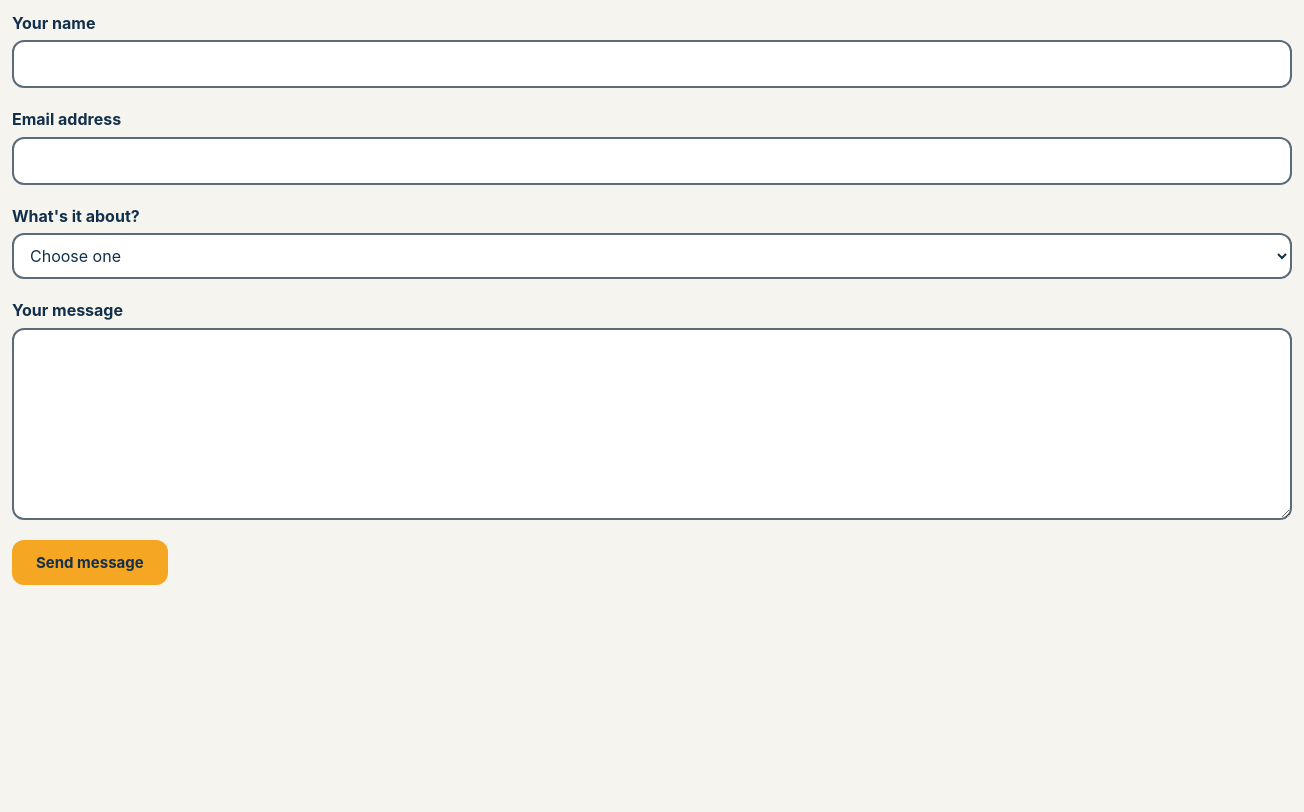
ContactForm › offers the email address when sending fails
This screenshot has width=1304, height=812.
In the field labelled "Your name": x=652, y=64 [12,40,1292,88], type "Dave"
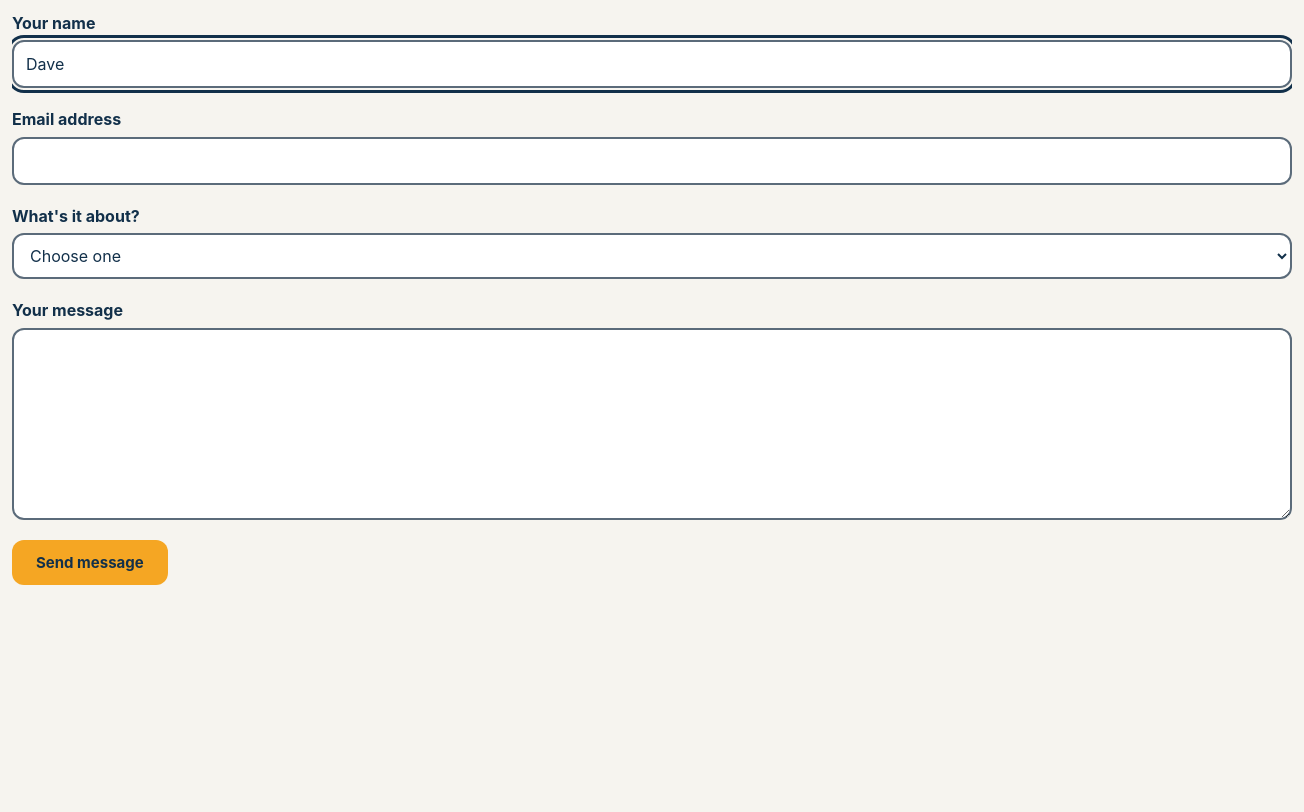
In the field labelled "Email address": x=652, y=161 [12,137,1292,185], type "dave@example.com"
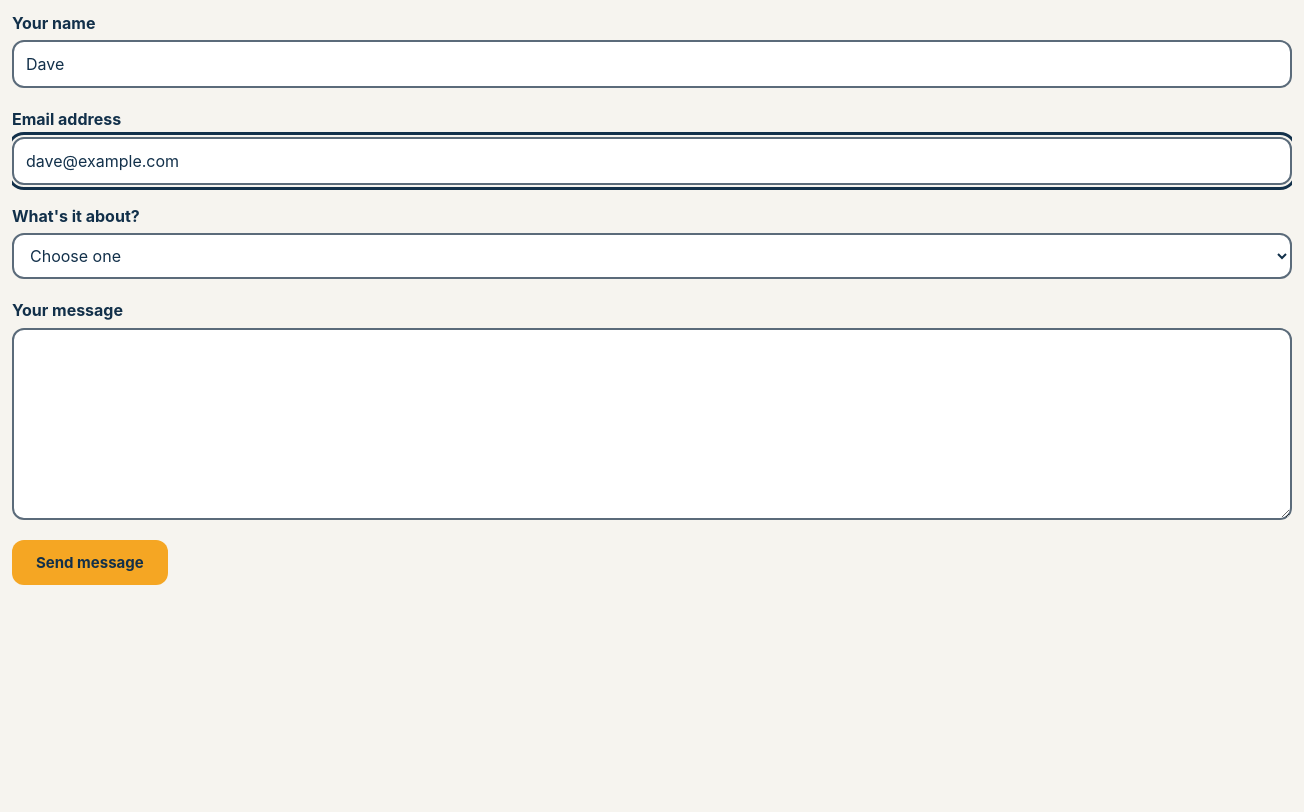
Select "Feedback or an idea" in the dropdown labelled "What's it about?": x=652, y=256 [12,233,1292,279]
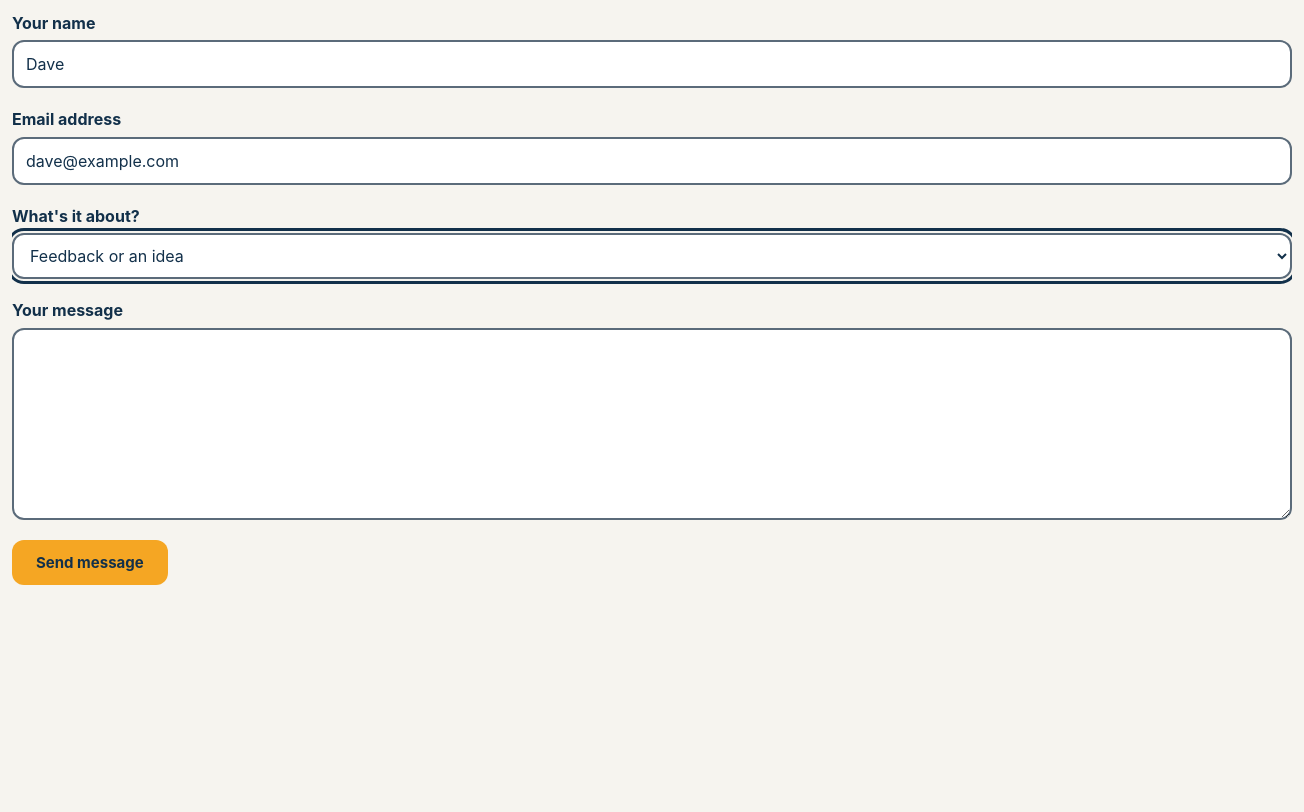
In the text box labelled "Your message": x=652, y=424 [12,328,1292,520], type "Could it cover Dartford?"
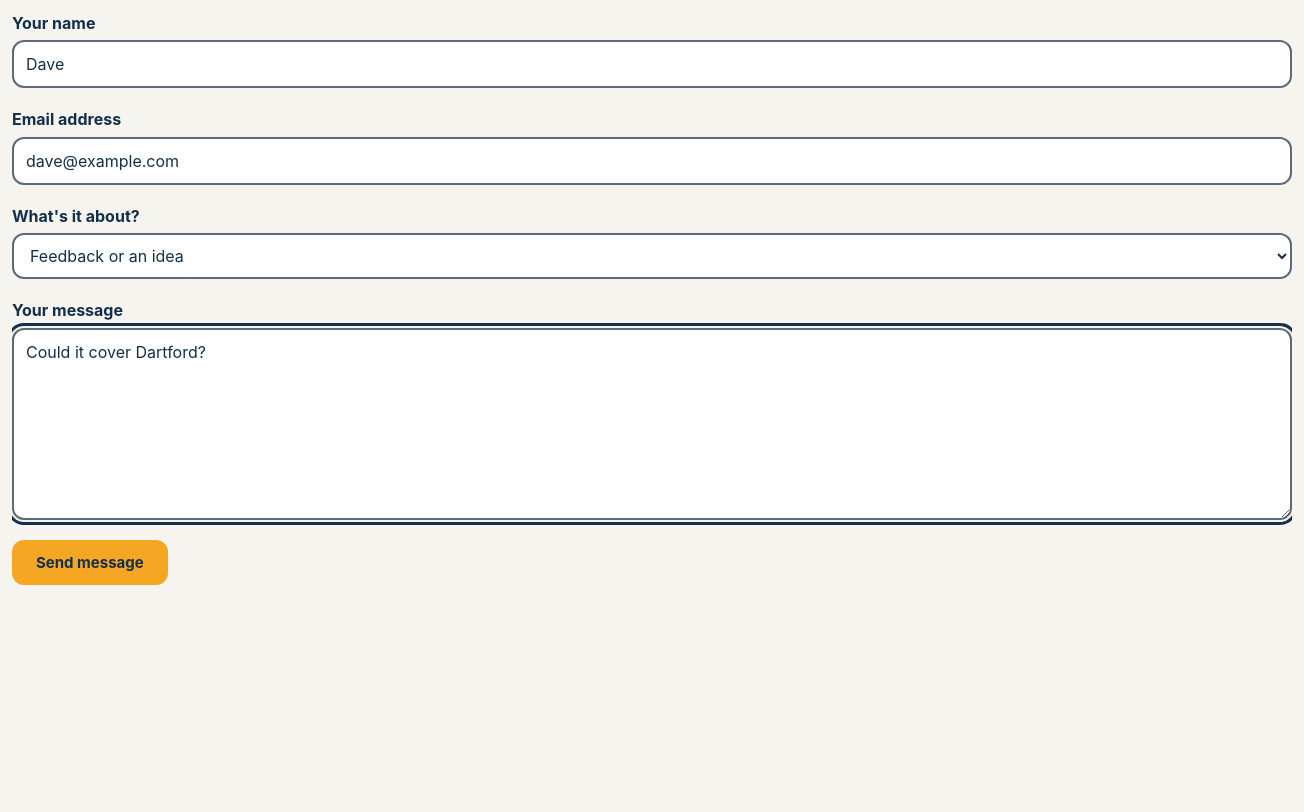
Click the button "Send message": x=90, y=562 [12,540,168,585]
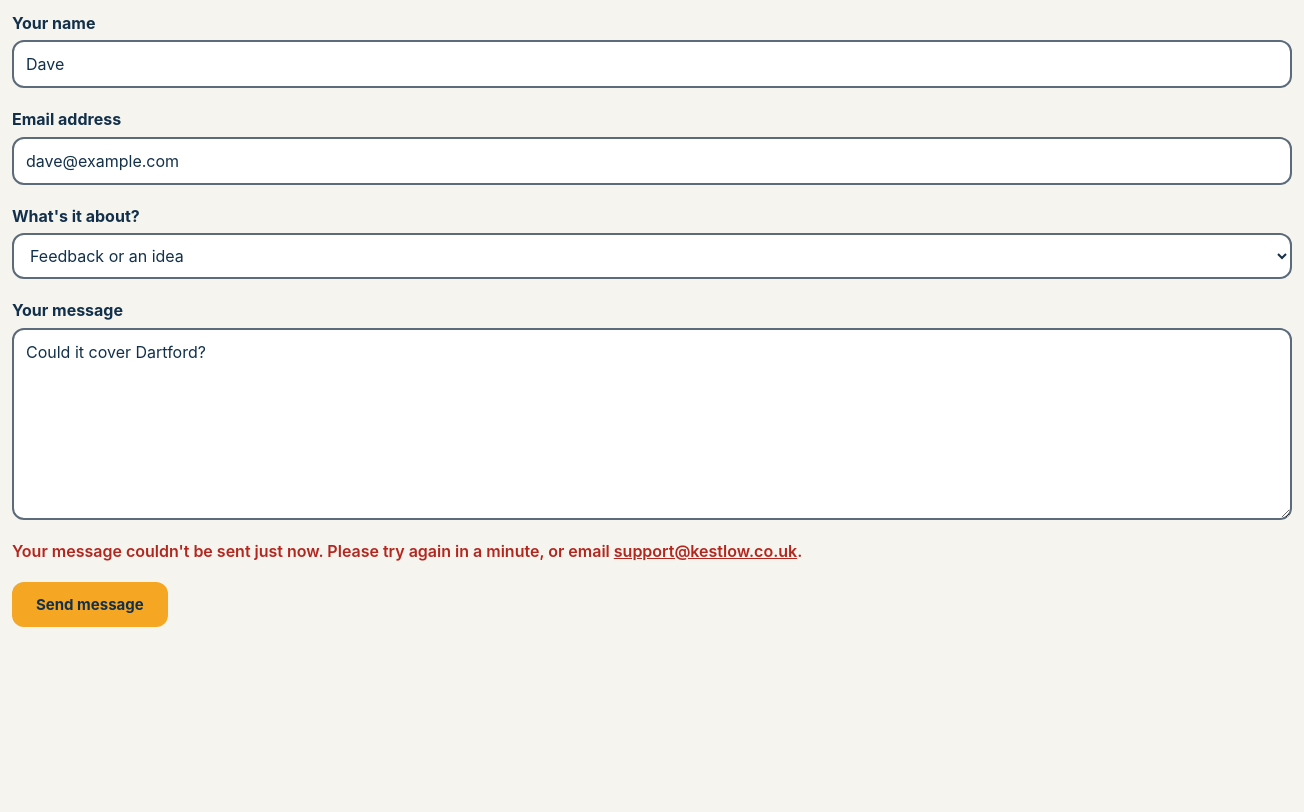
Check: the message shows "Your message couldn't be sent just now. Please try again in a minute, or email support@kestlow.co.uk.", box [12,541,802,561]
